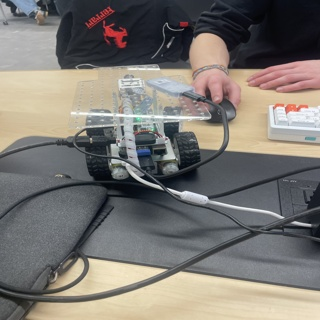vehicle: (77, 65, 200, 176)
